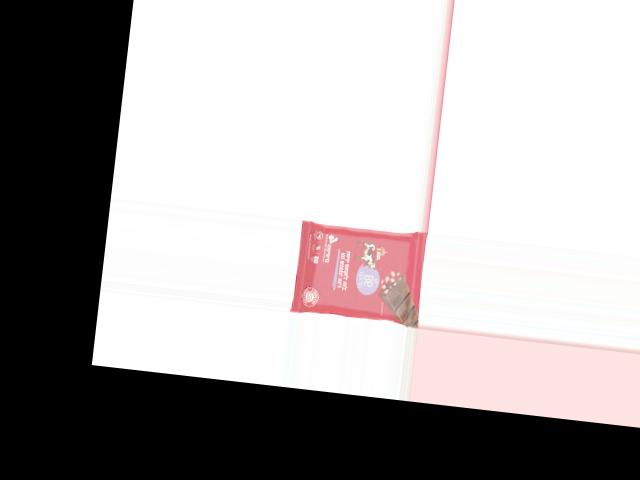chocolate: (289, 218, 427, 324)
